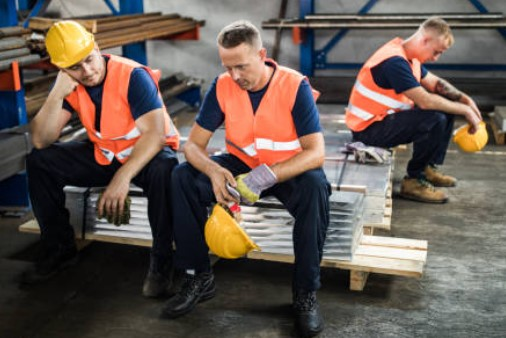worker: (45, 21, 181, 163), (215, 22, 307, 166), (346, 19, 448, 131)
